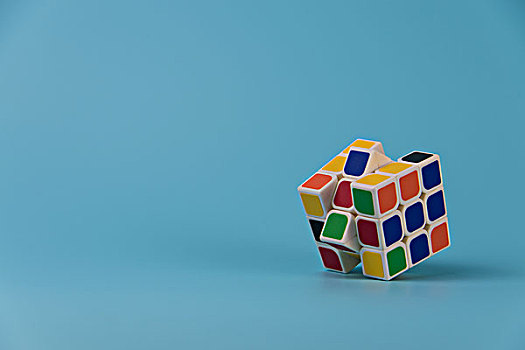cube: (296, 135, 452, 282)
